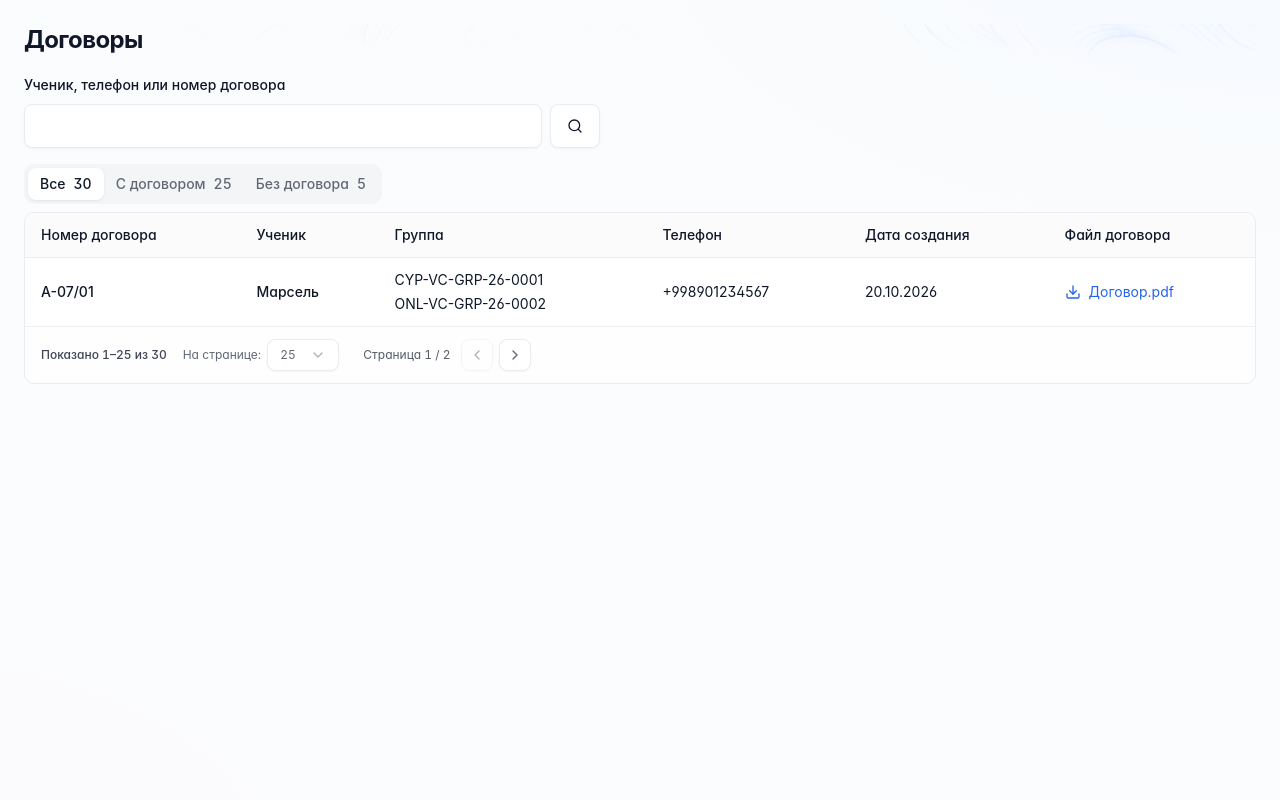
Test: student contracts directory › opens and closes the existing student modal from the sales contracts page and provides the attached file
Expected: the text "А-07/01" is shown, [25,258,240,326]
Expected: the heading "Договоры" is shown, [24,24,143,56]
Click the button with aria-label "Открыть ученика: Марсель".
click(67, 292)  # box [25,258,1255,326]
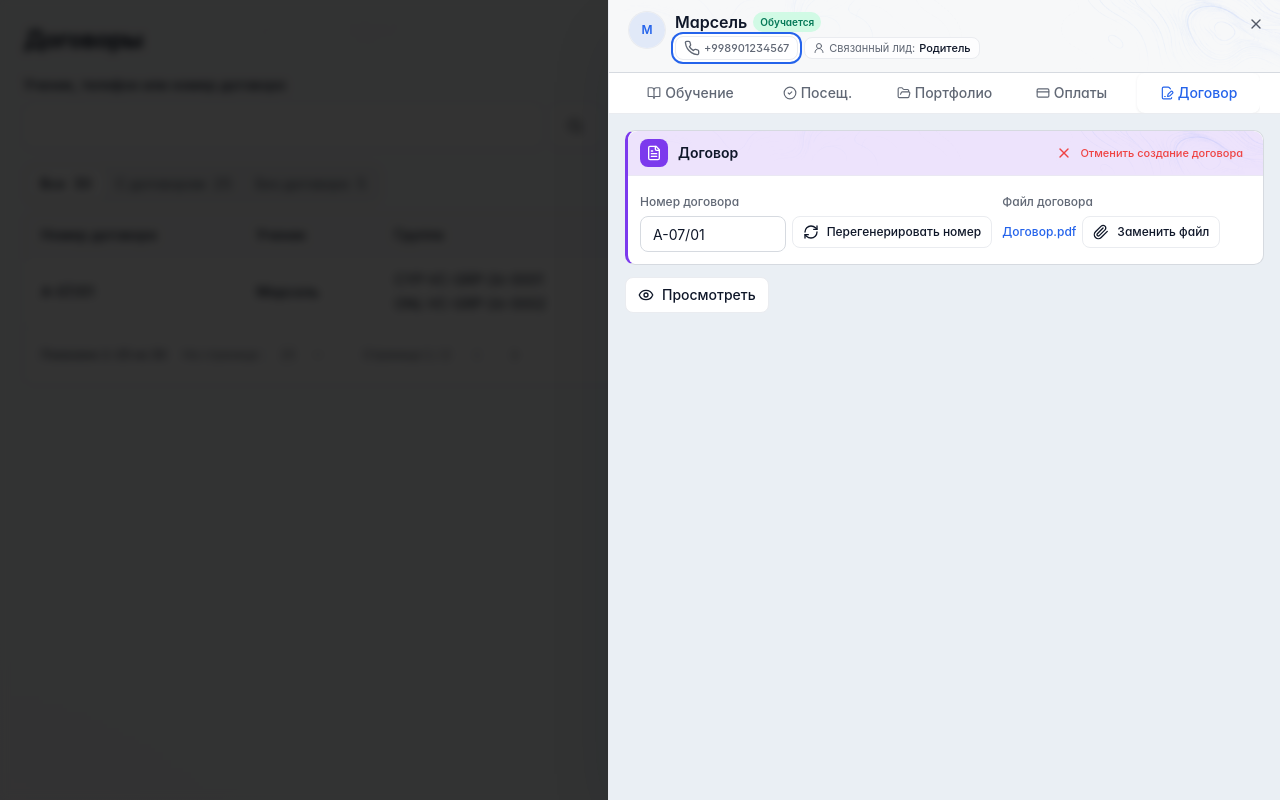
Expected: the dialog "Марсель" is shown, [608,0,1279,799]
Expected: the field labelled "Номер договора" holds "А-07/01", [640,216,786,252]
Click the button named "Закрыть".
click(1256, 24)  # box [1248,16,1264,32]
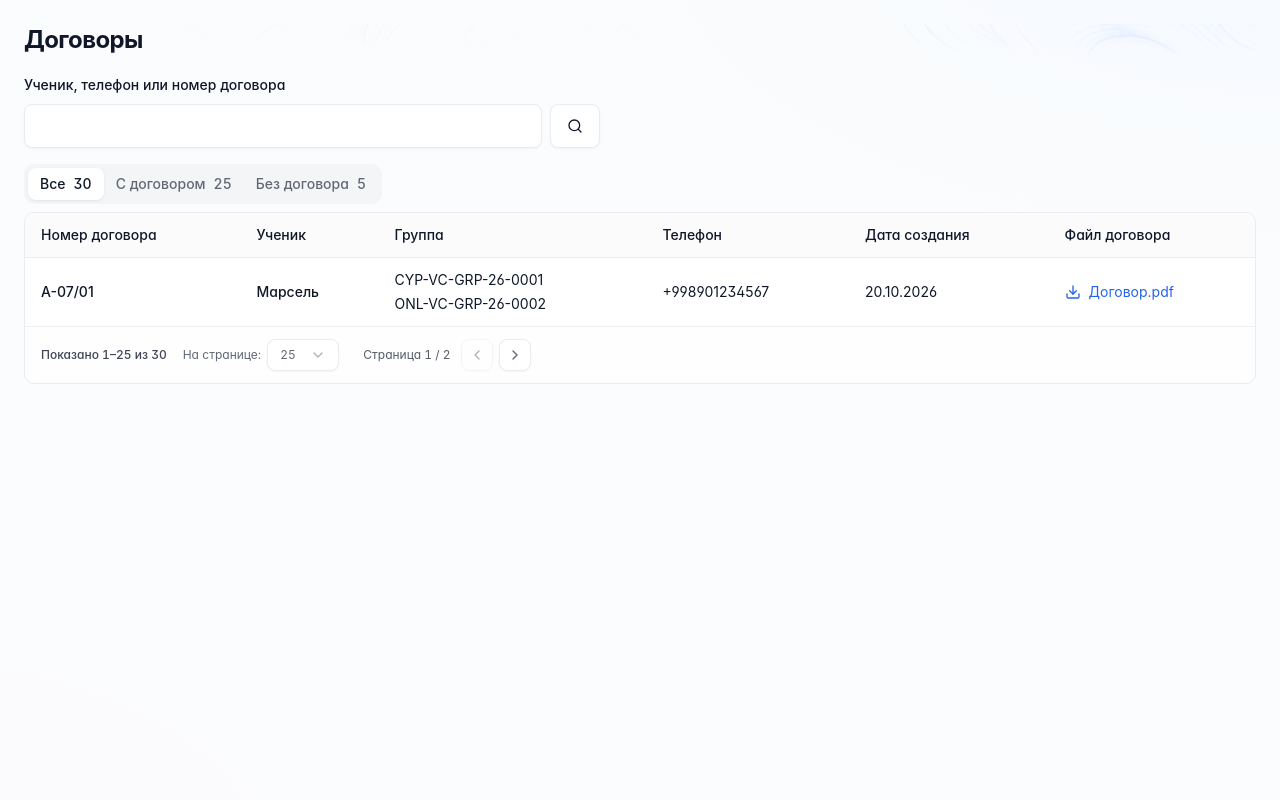
Expected: the dialog is gone
